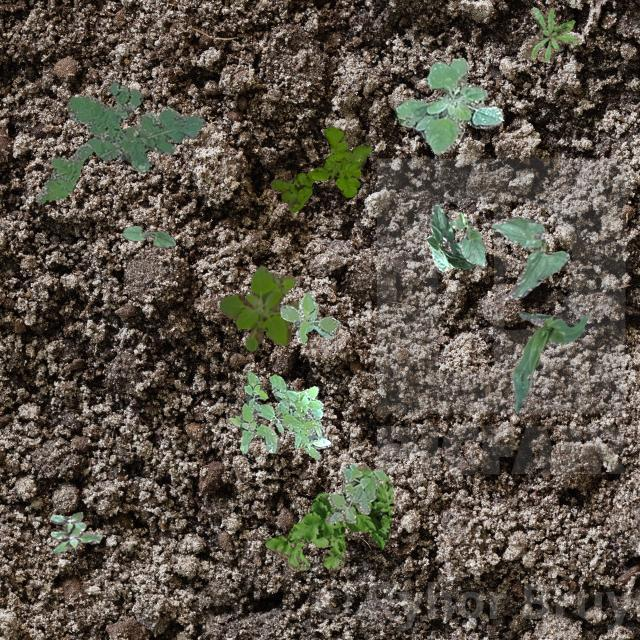crop: (512, 311, 586, 414), (491, 216, 568, 300), (426, 204, 476, 272), (448, 212, 486, 266), (120, 224, 174, 247)
weed: (35, 81, 204, 202), (264, 462, 392, 570), (394, 56, 502, 154), (224, 371, 330, 458), (269, 126, 372, 210), (219, 264, 297, 350), (324, 462, 384, 524), (278, 290, 339, 342), (524, 5, 578, 60), (50, 510, 100, 552)
